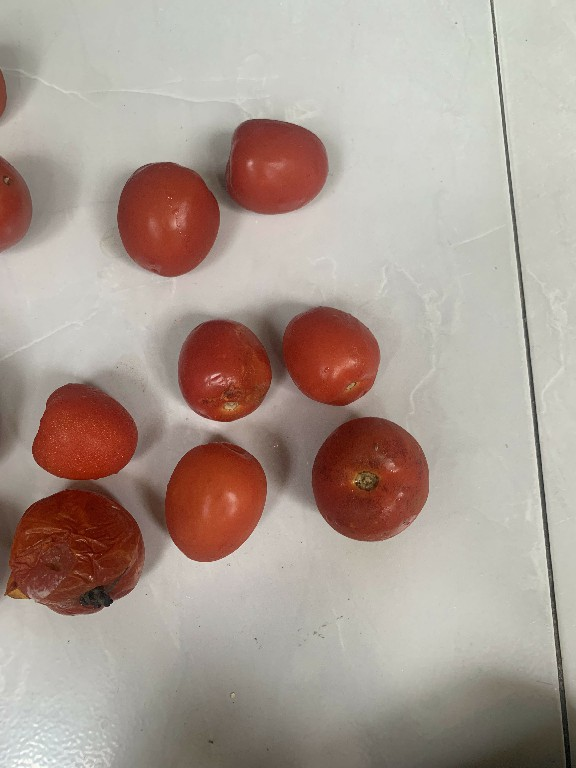NG: (1, 483, 150, 621), (307, 415, 434, 543), (174, 310, 276, 426)
OK: (218, 114, 342, 234), (160, 434, 270, 568), (115, 158, 218, 280), (26, 378, 143, 479), (283, 303, 378, 411)
